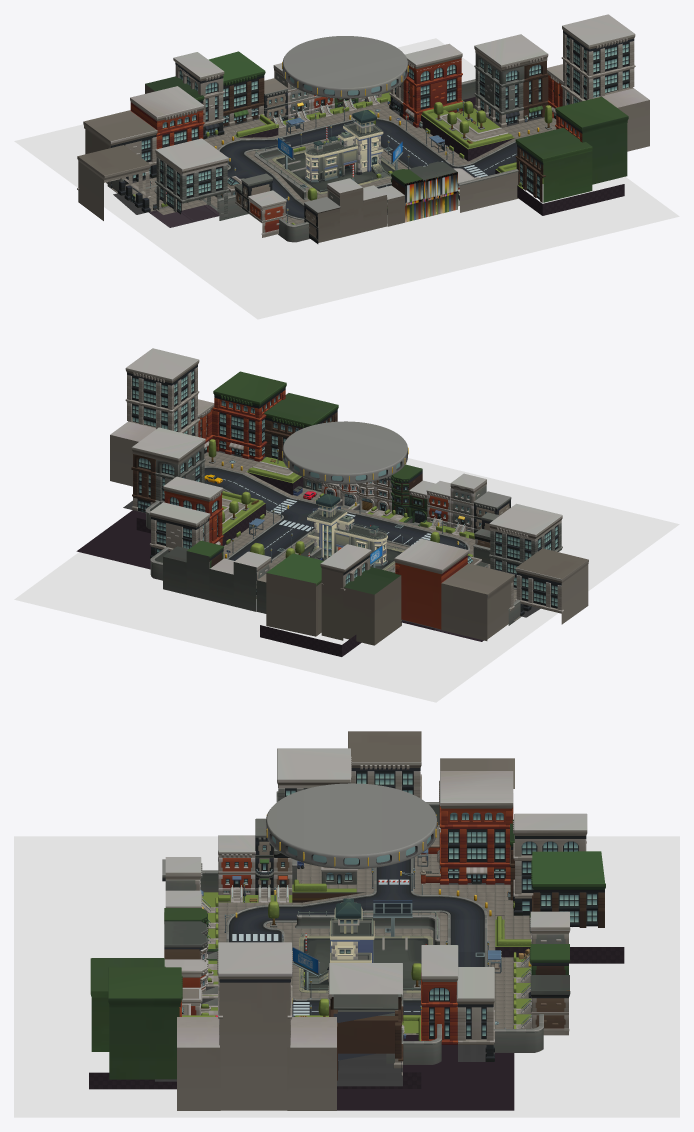
File: opt_map.glb
3 views of the same model, one above another, from view 1: azimuth 30°, elevation 25°; view 2: azimuth 150°, elevation 25°; view 3: azimuth 270°, elevation 25° (orthographic). The views are drawn at different scales.
Visible parts, largest first — view 1: Object_22, Object_56, UFO_33, Object_67, Object_21, Object_23; view 2: Object_22, Object_56, UFO_33, Object_23, Object_67, Object_21; view 3: Object_22, Object_56, UFO_33, Object_23, Object_21, Object_67.
Part boxes in pixels (<box>): Object_22: <box>77,14,649,243</box>; Object_56: <box>14,38,679,319</box>; UFO_33: <box>282,36,408,98</box>; Object_67: <box>166,110,399,194</box>; Object_21: <box>111,102,556,224</box>; Object_23: <box>135,97,624,227</box>; Object_22: <box>110,348,588,645</box>; Object_56: <box>14,439,679,702</box>; UFO_33: <box>282,421,408,484</box>; Object_23: <box>76,472,483,656</box>; Object_67: <box>295,494,405,570</box>; Object_21: <box>204,451,520,620</box>; Object_22: <box>90,731,605,1110</box>; Object_56: <box>14,836,679,1117</box>; UFO_33: <box>266,783,436,868</box>; Object_23: <box>89,829,624,1110</box>; Object_21: <box>218,825,531,1034</box>; Object_67: <box>298,879,437,993</box>.
Size of the model in its own units: 166 by 39.36 by 144.
Materials: 7 (7 with a texture image).
